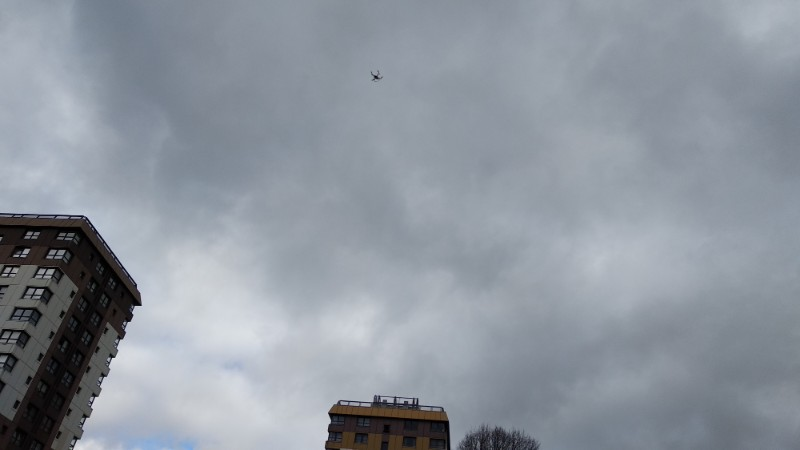drone: (369, 69, 382, 83)
